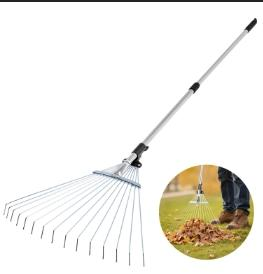RATEAU: (1, 0, 263, 274)
